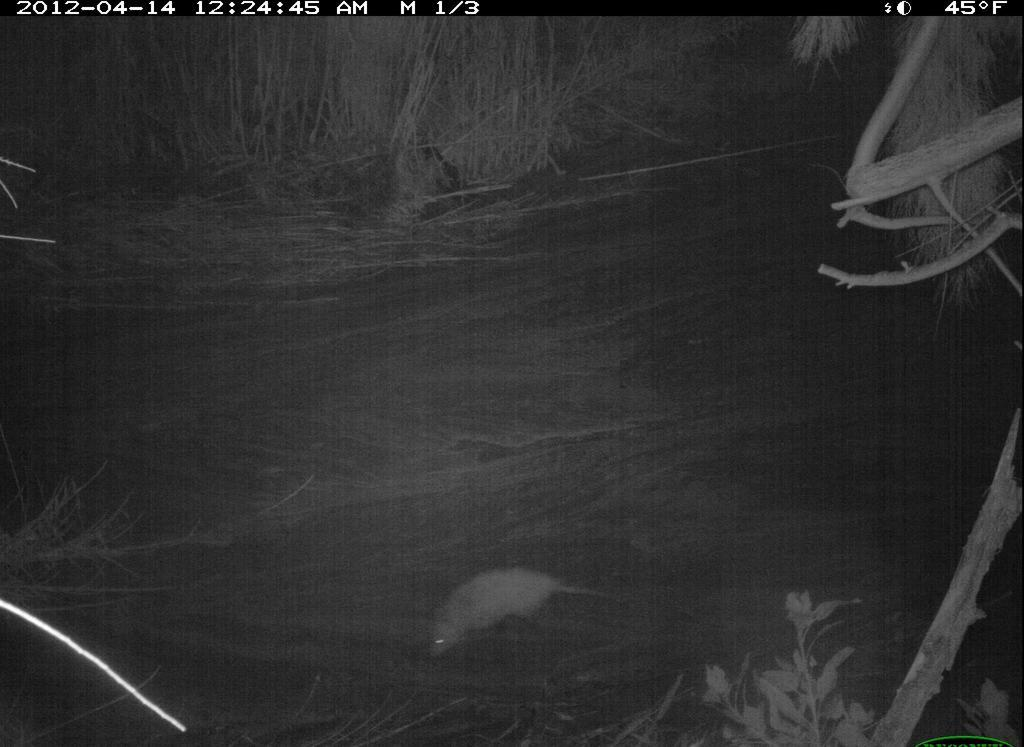opossum: (417, 564, 633, 666)
